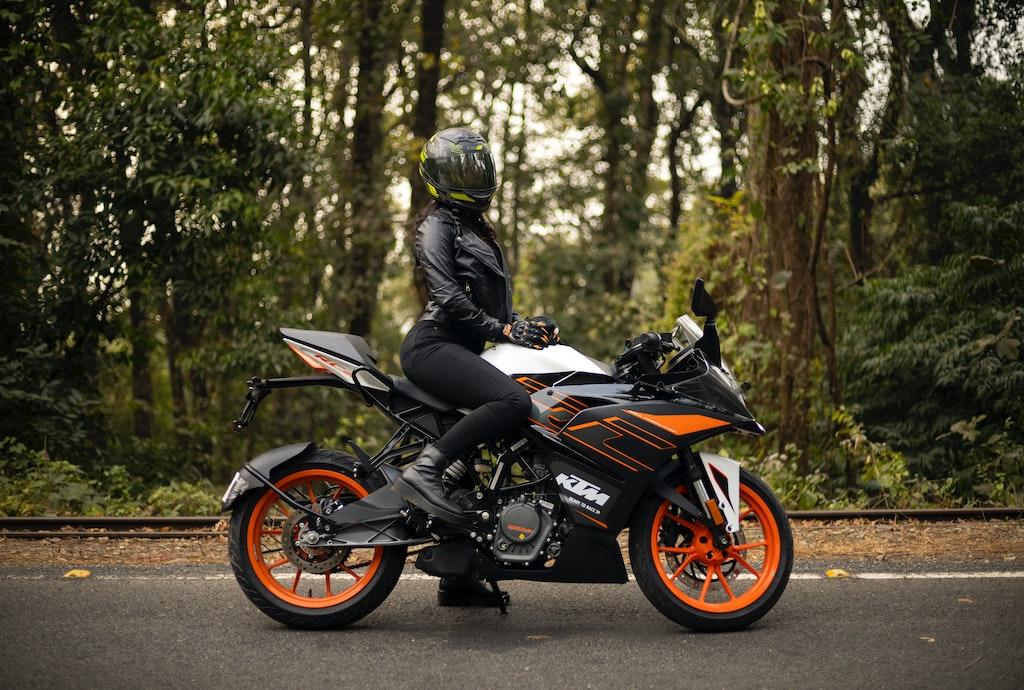helmet: (417, 127, 498, 214)
